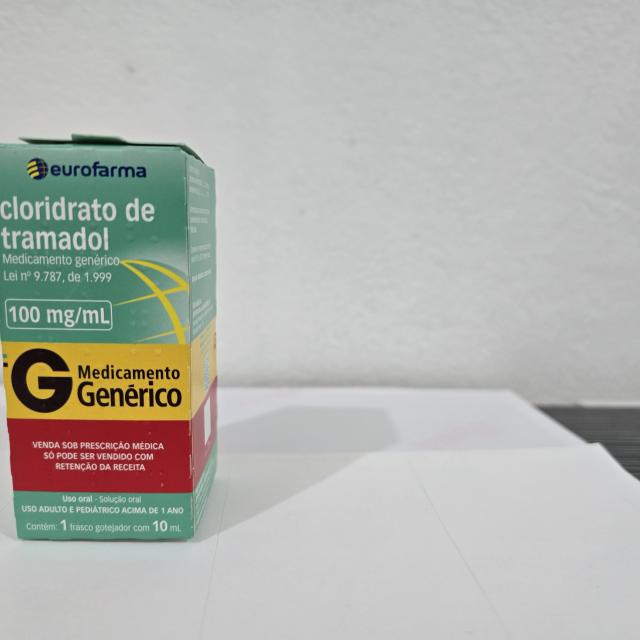tramadol: (0, 129, 222, 546)
